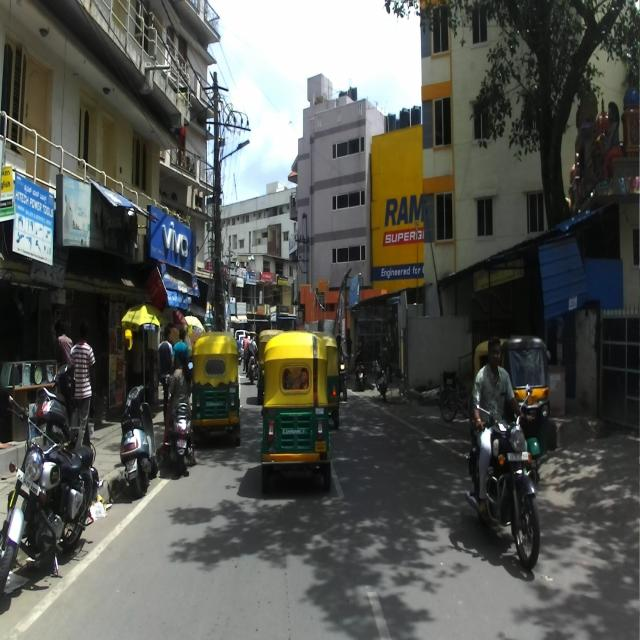autorickshaw: (260, 330, 332, 493), (474, 334, 550, 481), (191, 331, 241, 447)
motorcycle: (0, 395, 103, 601), (464, 382, 540, 573)
scooter: (119, 381, 158, 498), (34, 362, 80, 453), (163, 361, 193, 475)
